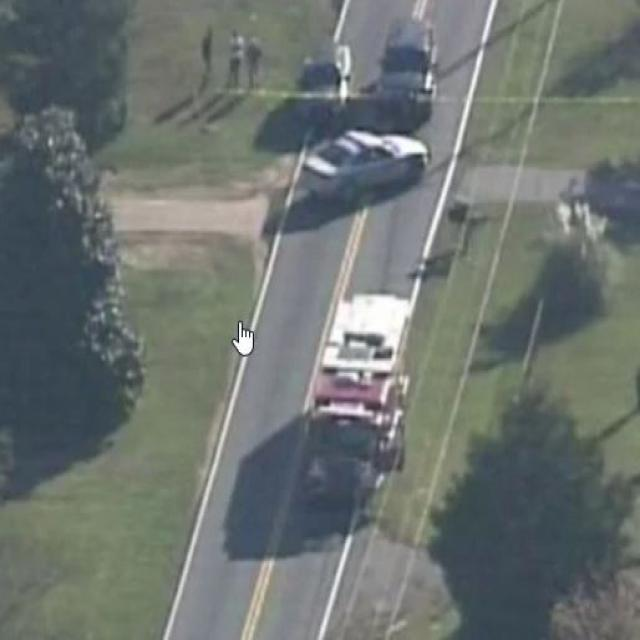traffic_incident: (289, 44, 439, 202)
